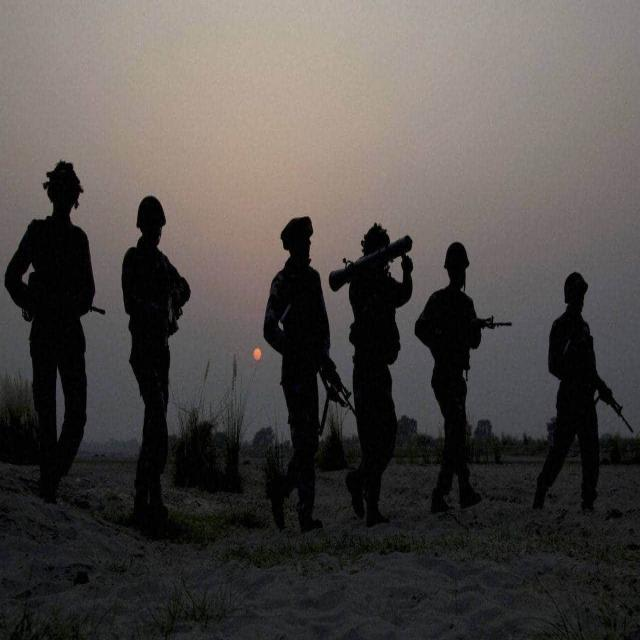Militant: (3, 149, 104, 513), (264, 160, 354, 546), (112, 177, 201, 537), (524, 250, 628, 533), (412, 224, 502, 533), (340, 180, 413, 540)
